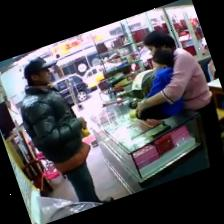person: (21, 57, 113, 203), (138, 30, 223, 166), (146, 49, 174, 98)
